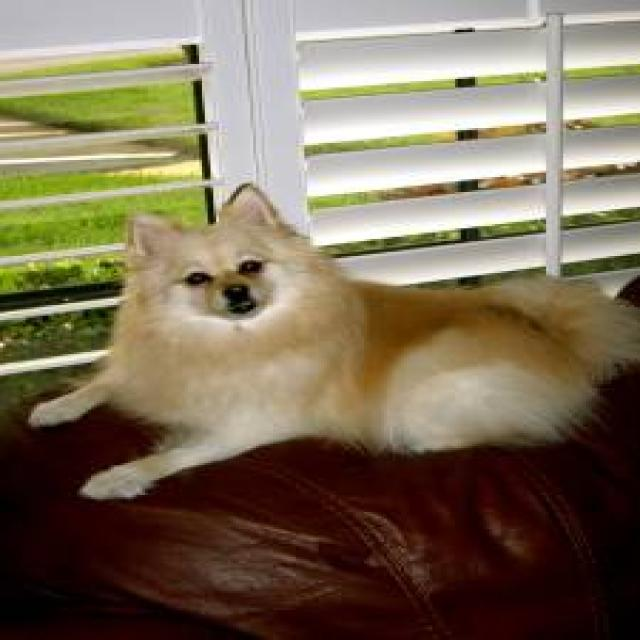dog-pomeranian: (6, 179, 634, 506)
